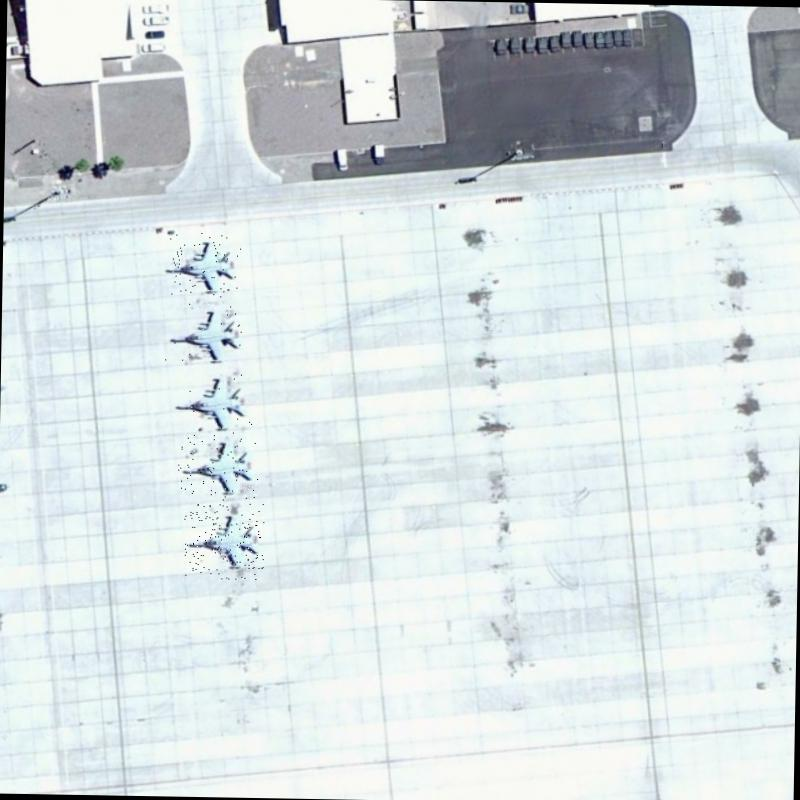A16: (183, 503, 264, 580), (170, 367, 254, 437), (178, 434, 260, 500), (164, 302, 244, 364), (166, 232, 242, 297)
